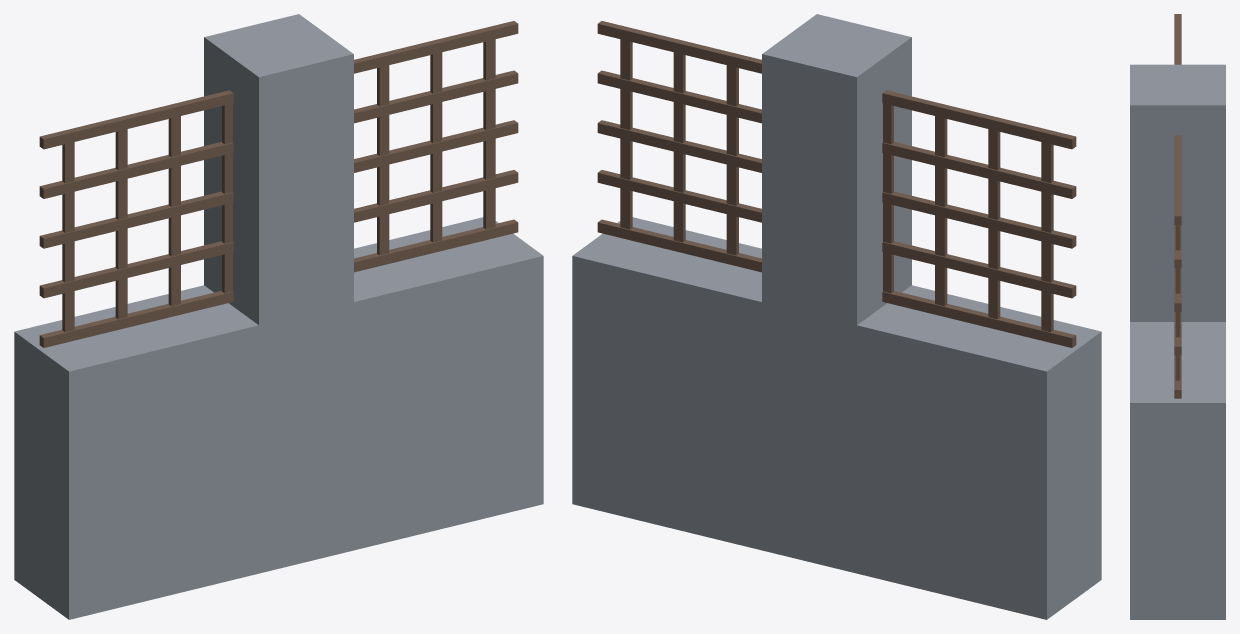
The model's file is Fence_09.fbx.
3 renders of one model, left to right at view 1: azimuth 30°, elevation 25°; view 2: azimuth 150°, elevation 25°; view 3: azimuth 270°, elevation 25°, orthographic. The views are drawn at different scales.
Visible parts, largest first — view 1: Fence_09; view 2: Fence_09; view 3: Fence_09.
Boxes of the visible parts, box(x1,y1,x2,y2) form: Fence_09: box(14, 14, 543, 619); Fence_09: box(572, 14, 1101, 619); Fence_09: box(1130, 14, 1225, 619).
Size of the model in its own units: 200 by 200 by 40.
